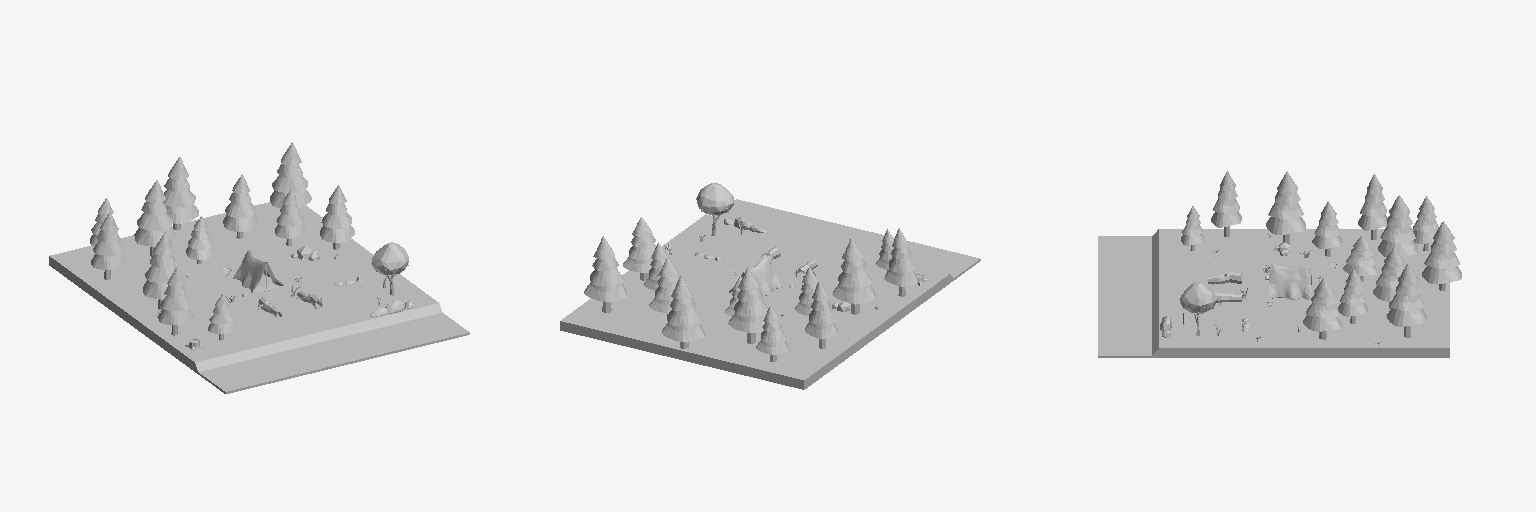
The model's file is campsite.obj.
3 views of the same model, side by side, from view 1: azimuth 30°, elevation 25°; view 2: azimuth 150°, elevation 25°; view 3: azimuth 270°, elevation 25° (orthographic).
Parts seen in each view (by area): view 1: Cube, Pine_Tree.004, Pine_Tree.001, Pine_Tree.011, Pine_Tree.002, Pine_Tree.010, Pine_Tree.014, Pine_Tree.003, Pine_Tree, Plane.001_Plane.001, Icosphere.004, Pine_Tree.013 (+2 smaller); view 2: Cube, Pine_Tree.011, Pine_Tree.002, Pine_Tree.001, Pine_Tree.004, Pine_Tree.010, Pine_Tree, Pine_Tree.003, Icosphere.004, Pine_Tree.007, Pine_Tree.014, Plane.001_Plane.001 (+1 smaller); view 3: Cube, Pine_Tree.011, Pine_Tree.002, Pine_Tree.001, Pine_Tree.004, Plane.001_Plane.001, Pine_Tree.003, Pine_Tree, Pine_Tree.010, Pine_Tree.014, Icosphere.004, Pine_Tree.006 (+4 smaller).
Boxes of the visible parts, x1,y1,x2,y2 form: Cube: [49, 202, 469, 393]; Pine_Tree.004: [134, 180, 175, 256]; Pine_Tree.001: [163, 157, 198, 229]; Pine_Tree.011: [270, 142, 311, 207]; Pine_Tree.002: [143, 233, 184, 309]; Pine_Tree.010: [91, 211, 126, 279]; Pine_Tree.014: [223, 174, 258, 238]; Pine_Tree.003: [320, 185, 354, 249]; Pine_Tree: [158, 267, 193, 335]; Plane.001_Plane.001: [233, 250, 283, 293]; Icosphere.004: [371, 242, 408, 295]; Pine_Tree.013: [275, 189, 305, 245]; Cube: [560, 199, 980, 389]; Pine_Tree.011: [584, 236, 627, 312]; Pine_Tree.002: [832, 238, 875, 314]; Pine_Tree.001: [662, 276, 704, 348]; Pine_Tree.004: [728, 267, 767, 343]; Pine_Tree.010: [805, 280, 837, 348]; Pine_Tree: [884, 228, 917, 296]; Pine_Tree.003: [623, 217, 655, 280]; Icosphere.004: [696, 183, 733, 235]; Pine_Tree.007: [756, 305, 788, 361]; Pine_Tree.014: [649, 258, 679, 320]; Plane.001_Plane.001: [729, 255, 781, 295]; Cube: [1098, 229, 1449, 357]; Pine_Tree.011: [1387, 263, 1426, 337]; Pine_Tree.002: [1266, 171, 1305, 244]; Pine_Tree.001: [1422, 221, 1461, 290]; Pine_Tree.004: [1378, 195, 1417, 257]; Plane.001_Plane.001: [1269, 263, 1311, 299]; Pine_Tree.003: [1303, 278, 1341, 339]; Pine_Tree: [1211, 170, 1241, 236]; Pine_Tree.010: [1358, 173, 1387, 239]; Pine_Tree.014: [1373, 248, 1404, 308]; Icosphere.004: [1180, 282, 1216, 335]; Pine_Tree.006: [1312, 201, 1342, 256].
Size of the model in its own units: 80.37 by 26.34 by 103.